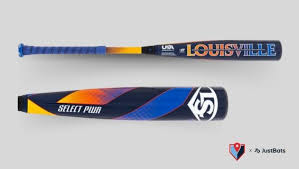baseball bat: (17, 39, 282, 60)
